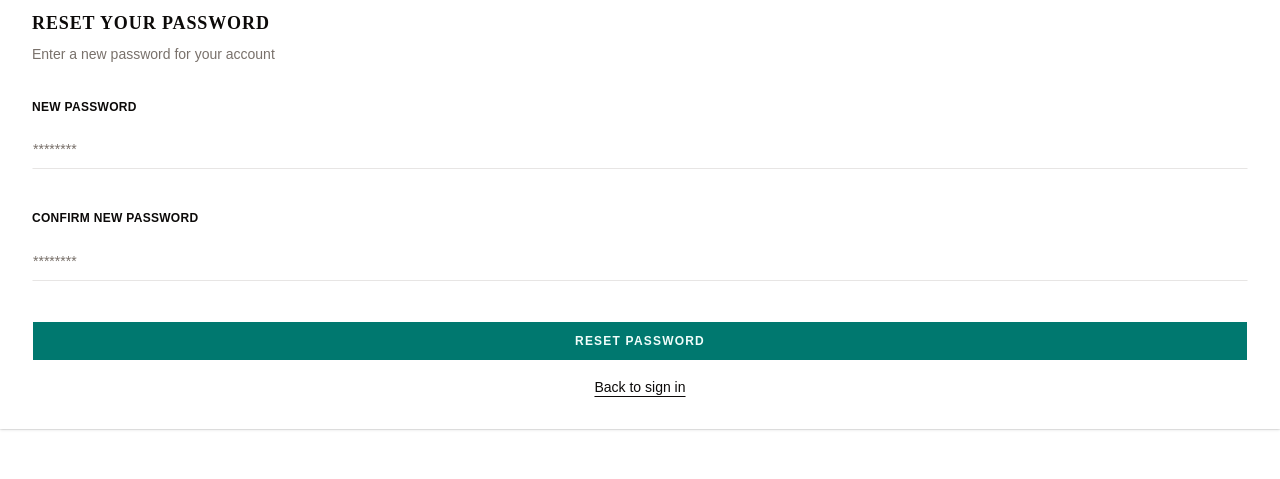
it: ResetPasswordForm › shows an error when passwords do not match
Type "newpassword123" into the password field labelled "New password" at (640, 149), box [32,129,1248,169]
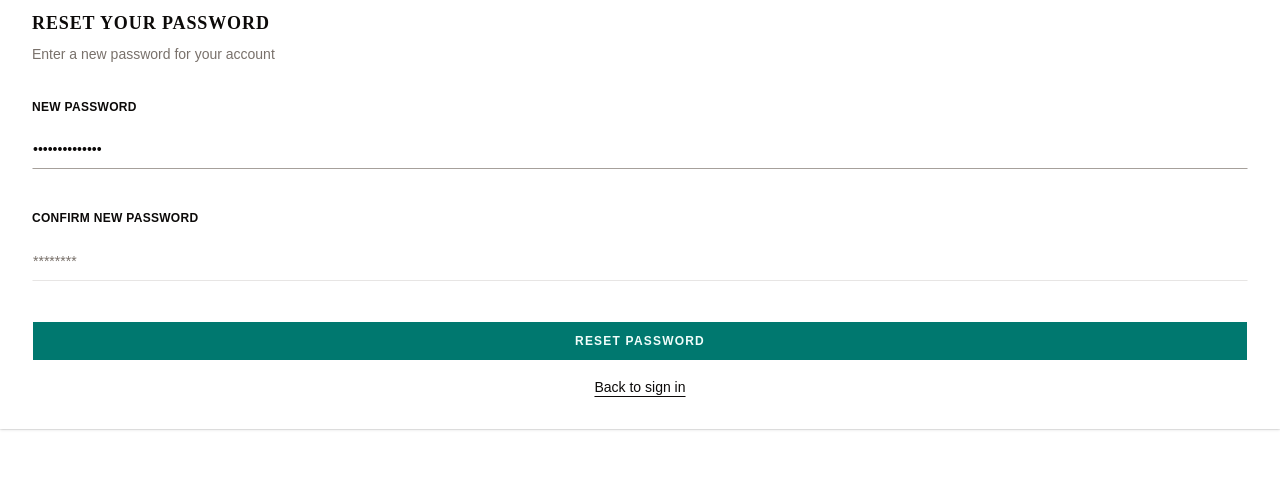
Type "differentpass" into the password field labelled "Confirm new password" at (640, 261), box [32,241,1248,281]
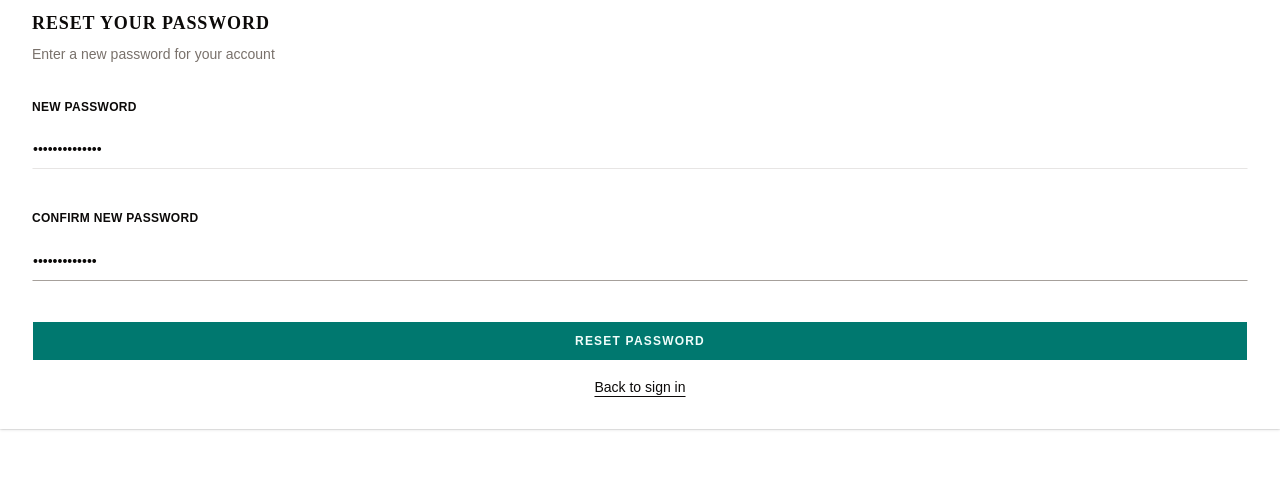
Click the button "Reset password" at (640, 341), box [32,321,1248,361]
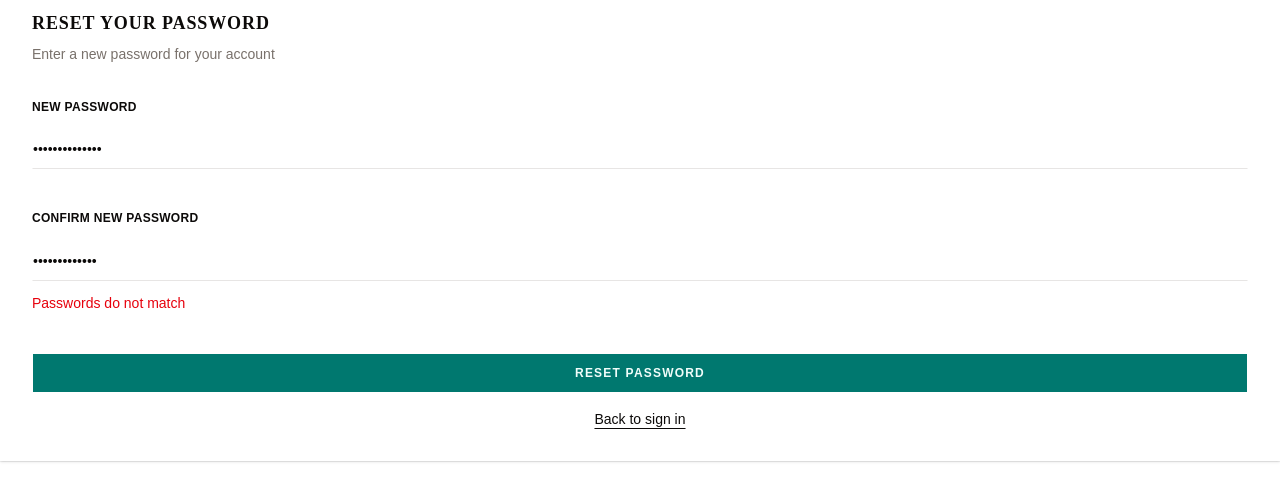
expect the text "Passwords do not match" is shown: met, box [32,295,185,311]
